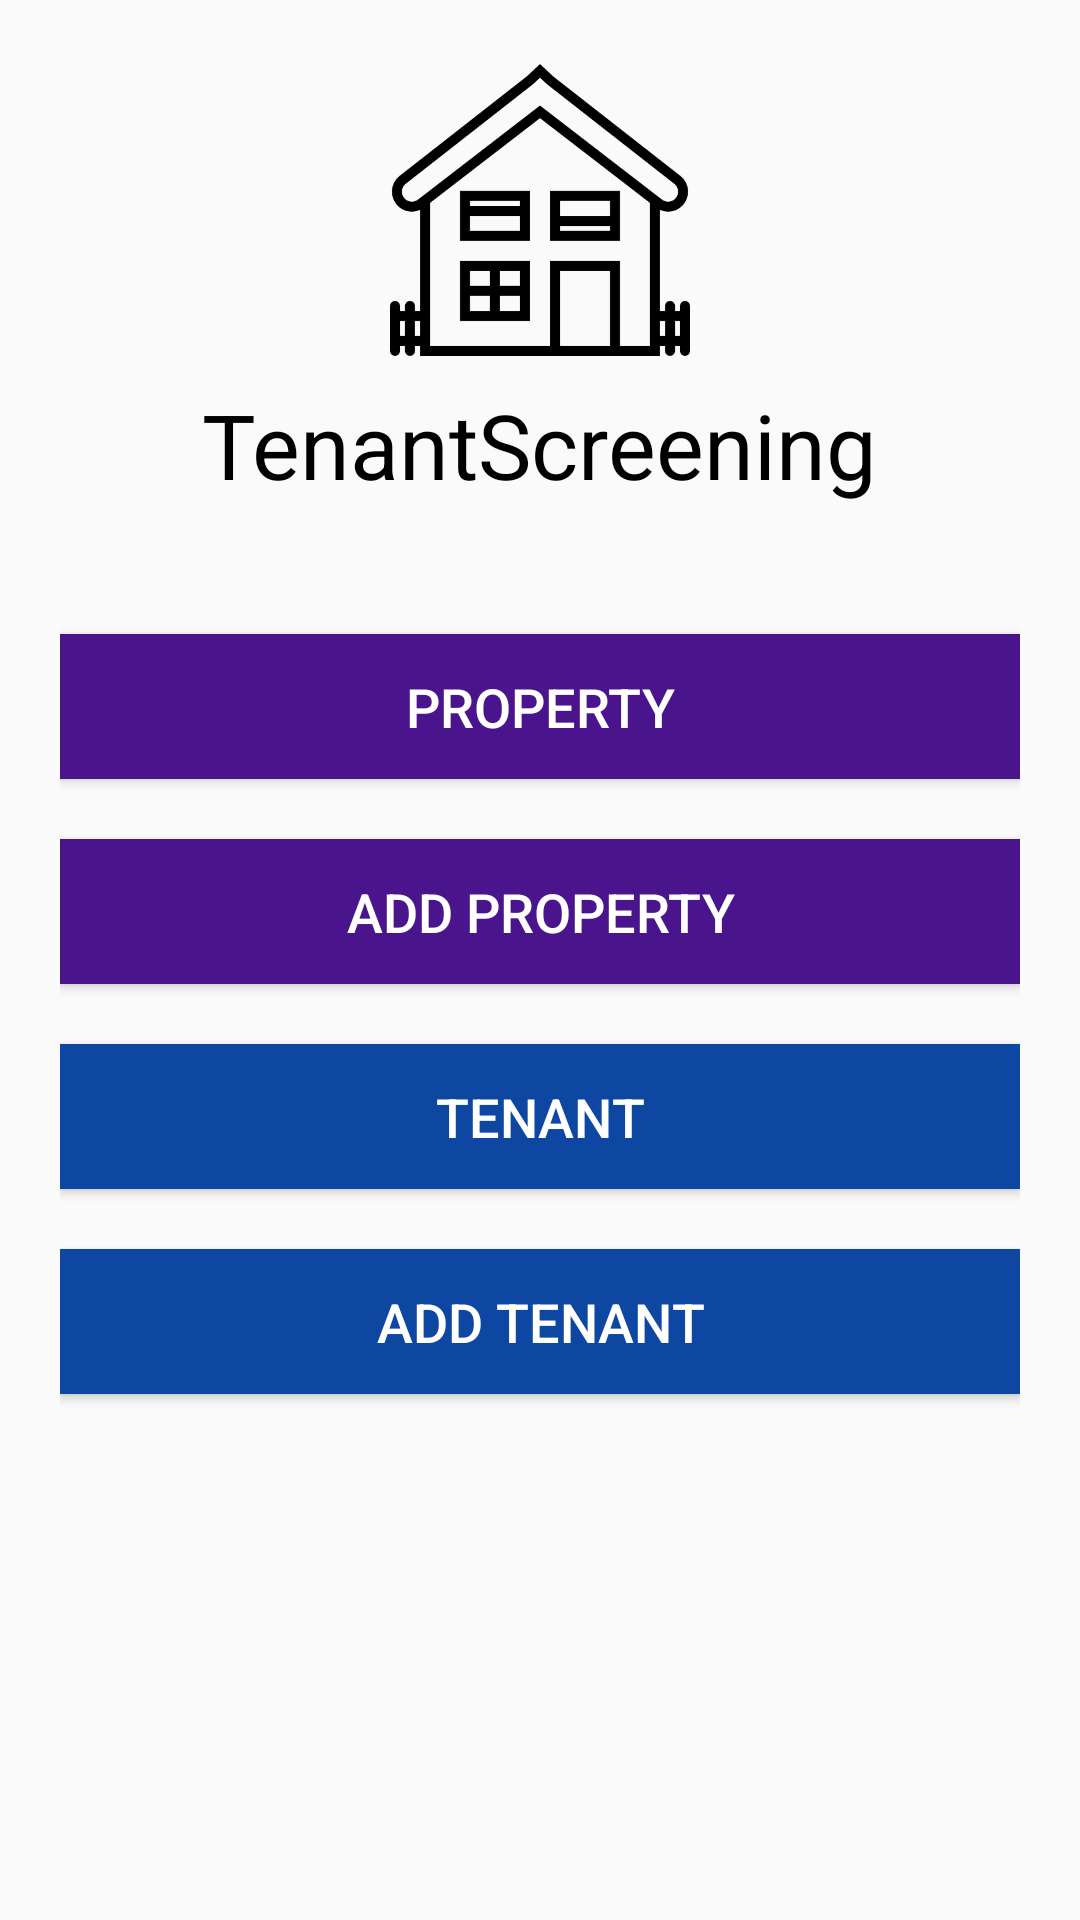

Named icons in this screenshot (1080×1920) and their bounding boxes, box(x1, y1, x2, y2):
house: box(390, 64, 690, 356)
